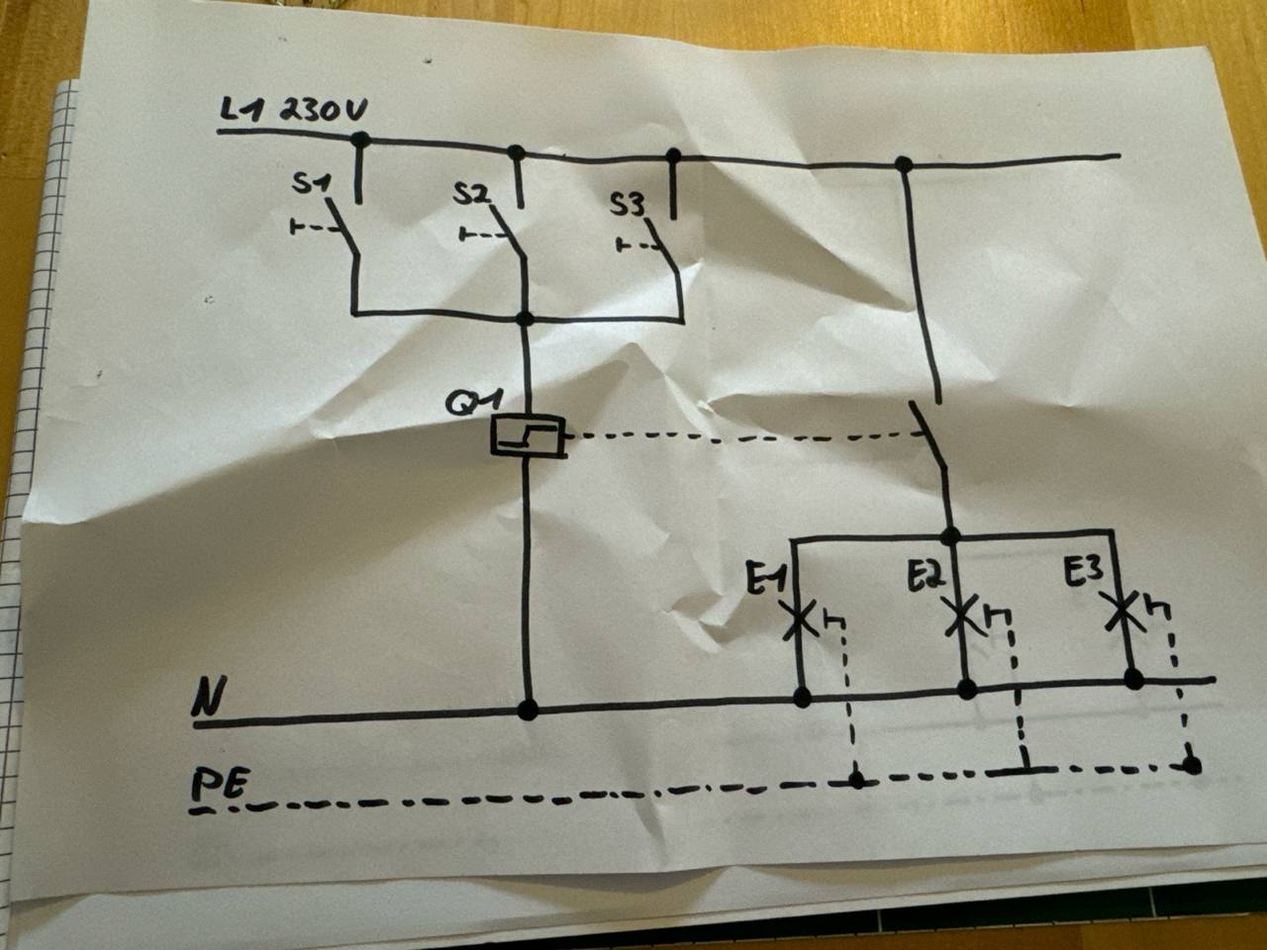crossover: (1170, 673, 1188, 694), (839, 690, 857, 708), (1008, 677, 1026, 695)
inductor: (485, 410, 572, 463)
junction: (1118, 663, 1147, 693), (513, 694, 542, 723), (888, 150, 918, 178), (935, 522, 965, 549), (954, 674, 978, 702), (790, 683, 814, 711), (1181, 750, 1205, 778), (661, 144, 683, 168), (513, 308, 535, 330), (504, 141, 526, 162), (349, 129, 371, 150), (669, 310, 691, 330), (1101, 521, 1121, 540), (847, 771, 865, 792), (344, 304, 364, 322), (1018, 762, 1037, 780), (785, 531, 803, 549), (1160, 598, 1174, 611), (1001, 605, 1014, 617), (838, 614, 847, 624)
lamp: (1097, 586, 1149, 635), (938, 593, 991, 640), (776, 595, 823, 643)
switch: (287, 192, 366, 260), (456, 195, 531, 264), (613, 210, 682, 277), (906, 389, 953, 474)
terminal: (1101, 144, 1128, 166), (184, 715, 208, 735), (1200, 670, 1223, 690), (181, 804, 198, 820), (211, 125, 227, 140)
text: (276, 93, 373, 124), (188, 761, 251, 803), (442, 381, 506, 419), (188, 671, 230, 718), (743, 556, 789, 598), (904, 554, 947, 594), (1061, 550, 1105, 588), (219, 94, 267, 125), (607, 187, 648, 219), (449, 180, 493, 204), (291, 170, 331, 194)
